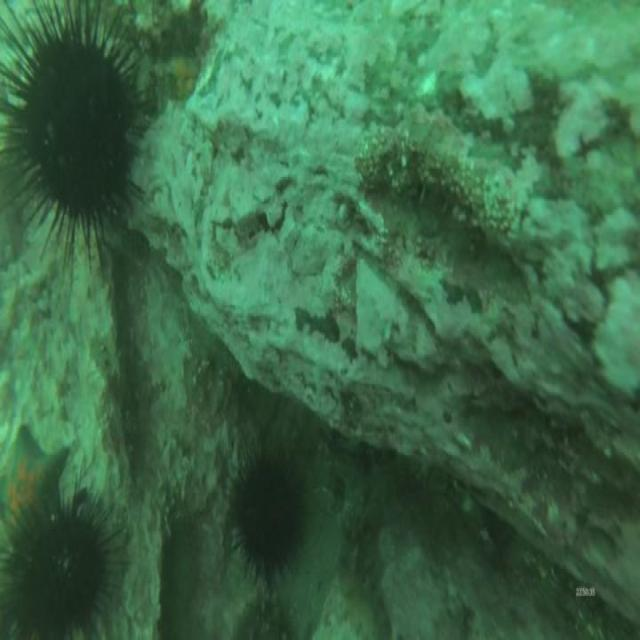echinus: (0, 0, 154, 270), (0, 482, 126, 640), (220, 444, 306, 583)
holothurian: (339, 449, 423, 548), (325, 554, 394, 640), (233, 591, 301, 640)
starfish: (0, 419, 71, 545)
